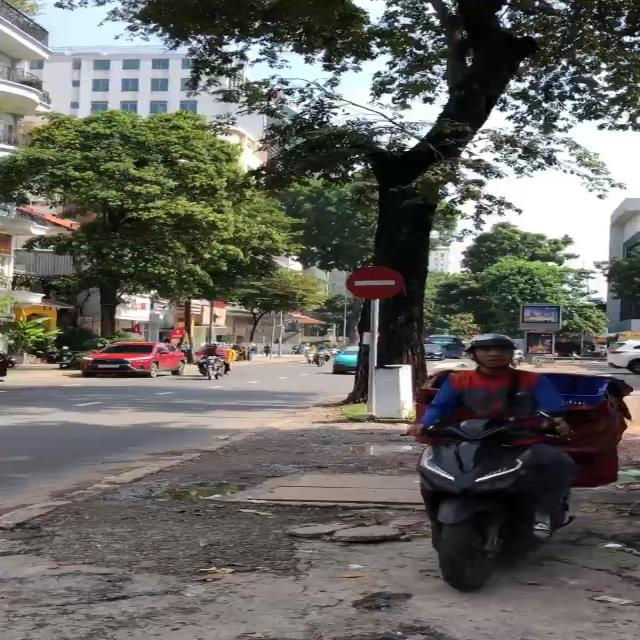Bien bao cam di nguoc chieu: (342, 262, 408, 302)
